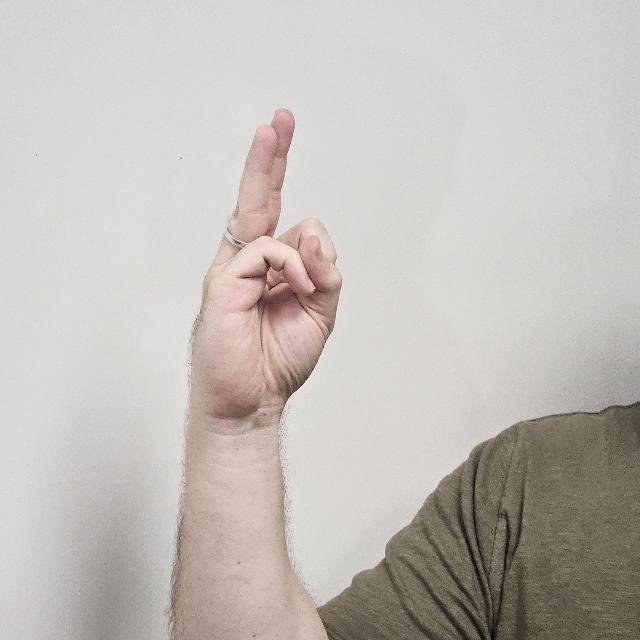R: (192, 107, 344, 470)
